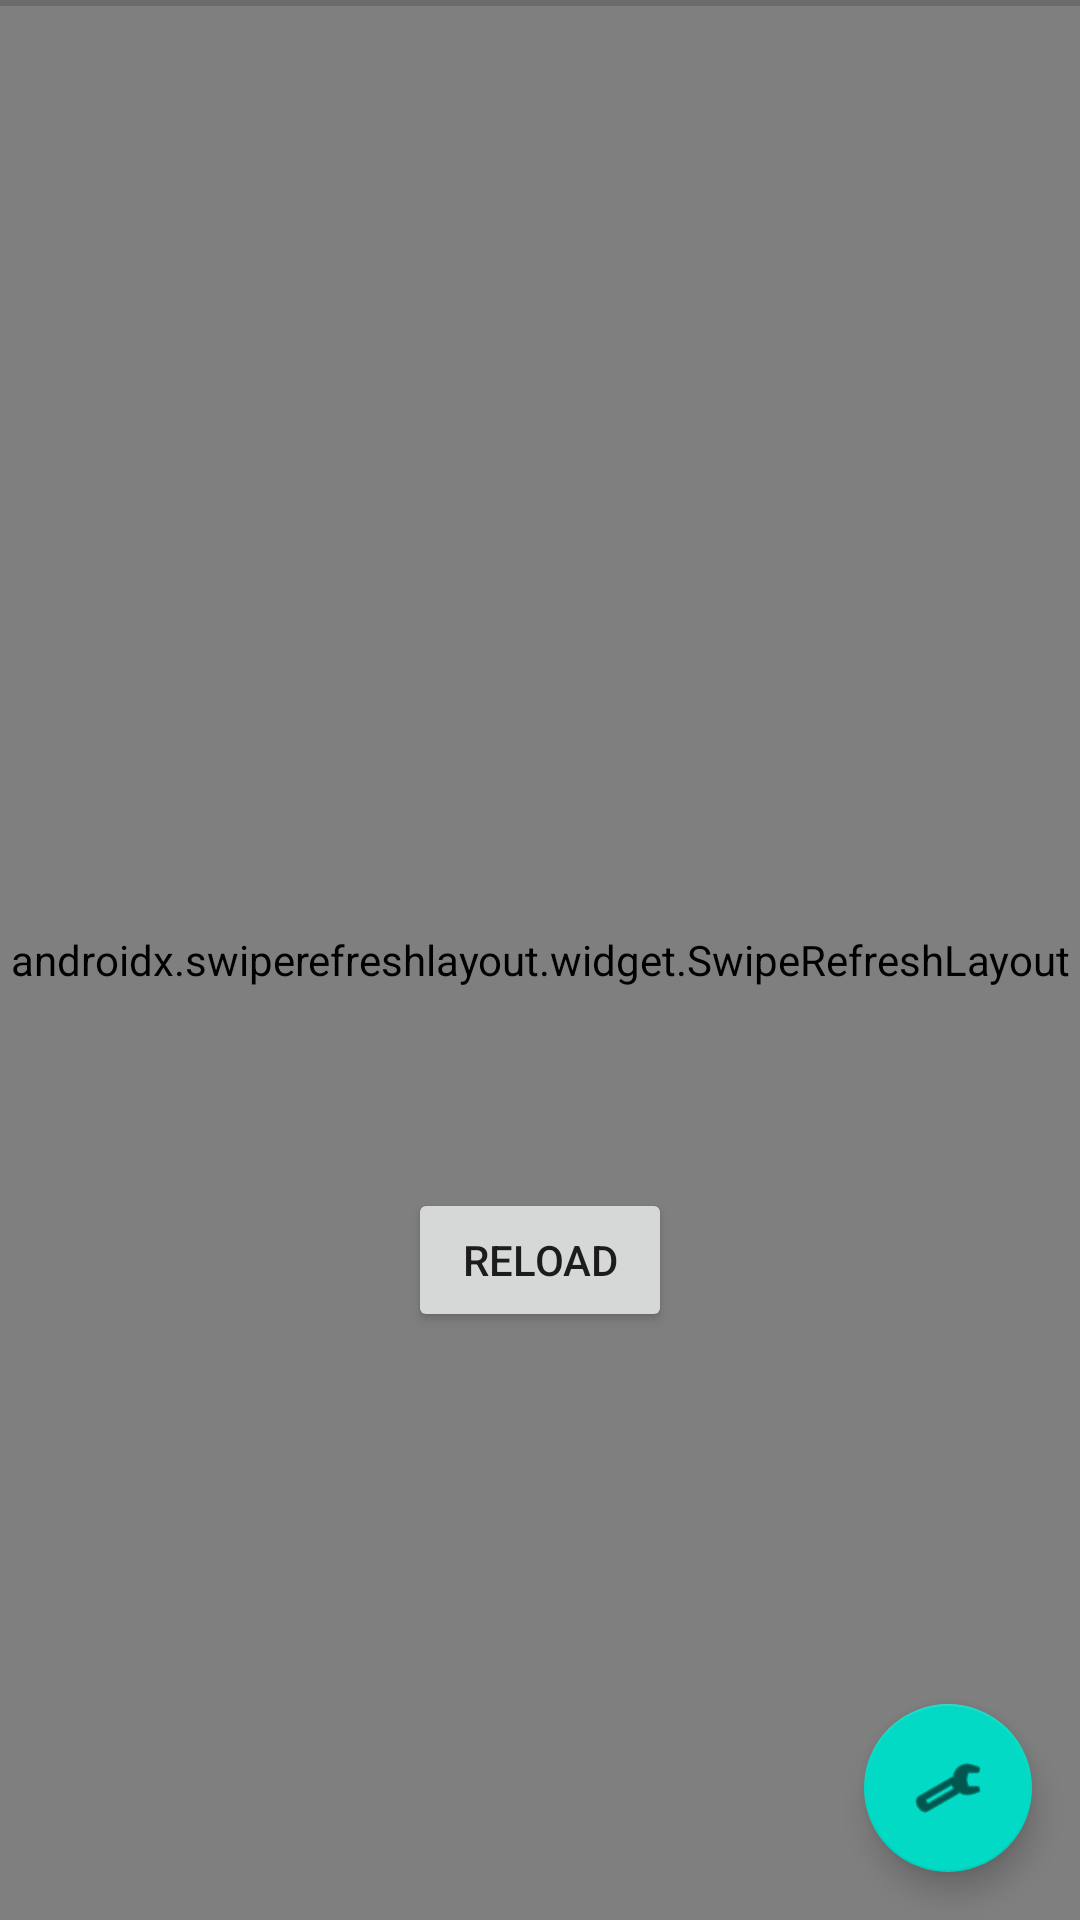

Screen size 1080×1920. Icon name, then its box in pixels as (x1, y1, x2, y2):
Settings: (864, 1704, 1032, 1872)
